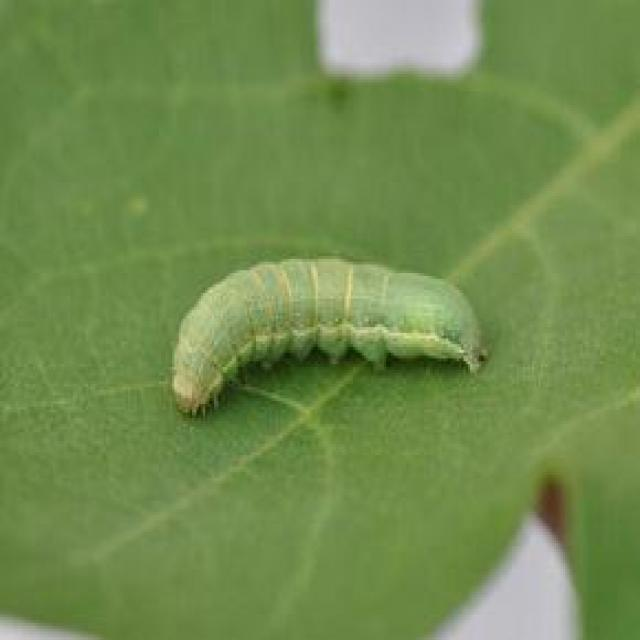BeetArmyWorm-Larva-: (155, 248, 501, 420)
